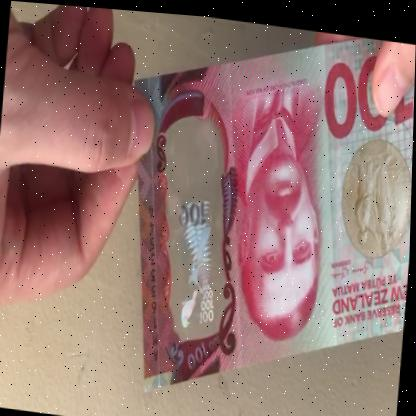100F: (156, 122, 232, 331)
